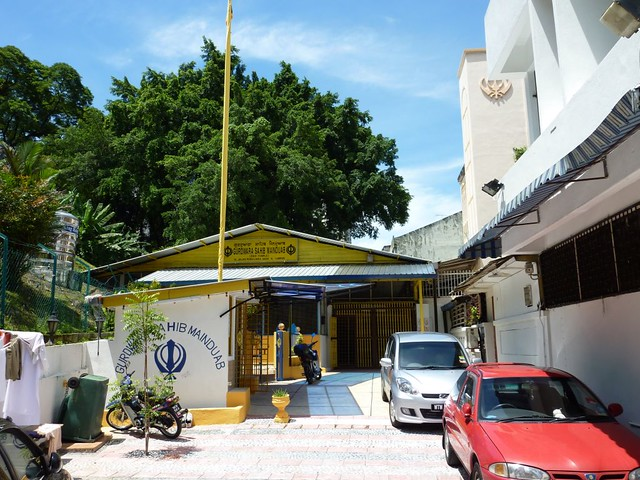Gurdwara: (69, 217, 429, 402)
